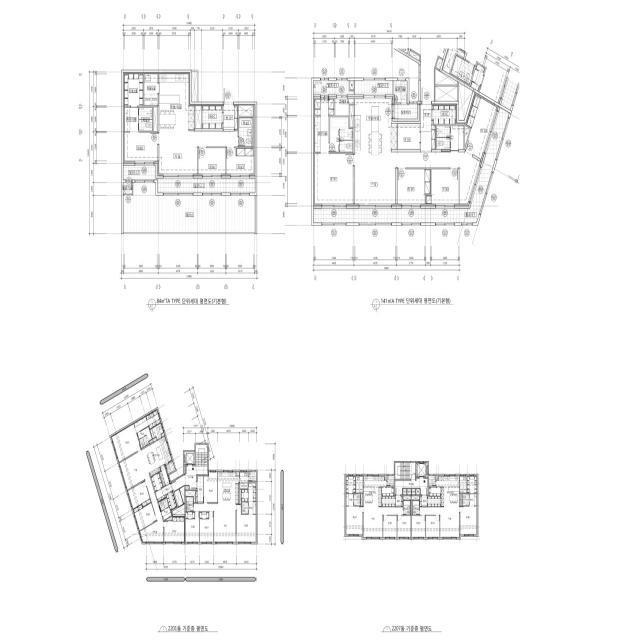space_balconi: (314, 107, 509, 223), (123, 166, 255, 193), (314, 81, 354, 94), (355, 81, 393, 94), (166, 461, 175, 474), (249, 471, 256, 481)
space_bedroom: (465, 92, 498, 160), (314, 154, 353, 206), (426, 169, 459, 206), (398, 169, 430, 206), (111, 423, 141, 462), (123, 132, 157, 163), (226, 148, 255, 176), (198, 148, 225, 176), (237, 504, 256, 543), (127, 481, 151, 509), (133, 503, 156, 531), (398, 124, 420, 149), (164, 517, 185, 543), (460, 506, 477, 535), (346, 506, 363, 535), (200, 512, 213, 543), (204, 471, 217, 502), (186, 512, 199, 543), (397, 516, 411, 538), (426, 516, 440, 538), (383, 516, 397, 538), (412, 516, 425, 538), (200, 512, 209, 518), (186, 512, 194, 518)
space_dressroom: (123, 73, 143, 106), (314, 117, 329, 152), (314, 97, 334, 115), (146, 409, 161, 429), (467, 475, 477, 493), (346, 475, 355, 493), (249, 483, 256, 501), (242, 490, 248, 501)
space_elevator: (416, 463, 428, 477), (184, 452, 195, 465)
space_elevator_hall: (171, 434, 207, 491), (395, 479, 428, 494)
space_front: (419, 104, 435, 152), (433, 104, 457, 124), (223, 104, 238, 129), (155, 483, 172, 501), (151, 473, 163, 491), (166, 491, 177, 510), (196, 476, 203, 503), (428, 496, 441, 506), (382, 497, 395, 506), (396, 496, 403, 506), (420, 496, 427, 506)
space_kitchen: (355, 97, 397, 154), (159, 72, 194, 131), (142, 436, 172, 476), (364, 475, 387, 507), (436, 475, 459, 507), (218, 471, 239, 504), (382, 487, 394, 496), (429, 488, 441, 496)
space_living_room: (355, 152, 481, 206), (119, 450, 163, 543), (158, 131, 238, 176), (194, 504, 236, 543), (420, 507, 460, 538), (363, 507, 403, 538)
space_multipurpose_space: (144, 73, 158, 106), (335, 97, 354, 115)
space_other: (411, 48, 446, 101), (459, 83, 473, 120), (202, 105, 222, 128), (435, 69, 458, 85), (435, 86, 458, 101), (395, 104, 417, 119), (159, 465, 170, 487), (150, 423, 164, 440), (240, 471, 249, 489), (174, 489, 183, 507), (192, 71, 197, 102), (239, 105, 253, 116), (195, 105, 201, 128), (173, 504, 185, 515), (460, 475, 467, 493), (356, 475, 363, 493), (409, 50, 420, 61), (186, 490, 195, 502), (465, 126, 470, 146), (153, 107, 157, 131), (350, 105, 354, 127), (180, 486, 185, 503), (436, 58, 443, 69), (149, 437, 157, 443), (403, 496, 411, 500), (350, 81, 354, 89), (412, 496, 419, 500), (165, 516, 172, 520), (361, 494, 363, 506), (460, 494, 462, 506), (416, 489, 420, 494), (407, 489, 411, 494), (412, 489, 416, 494), (403, 489, 407, 494), (161, 433, 165, 437), (184, 466, 186, 474), (236, 471, 239, 476), (240, 490, 241, 504), (185, 486, 189, 489), (436, 476, 438, 480)
space_outdoor_room: (394, 81, 407, 102), (123, 183, 132, 194), (387, 475, 394, 486), (429, 475, 435, 486)
space_staircase: (395, 463, 415, 479), (201, 444, 207, 466)
space_toilet: (330, 117, 353, 152), (123, 107, 152, 131), (239, 118, 253, 146), (450, 126, 464, 149), (137, 427, 152, 448), (134, 416, 148, 433), (437, 126, 450, 137), (161, 507, 172, 520), (437, 138, 450, 149), (186, 497, 193, 511), (412, 501, 419, 515), (469, 494, 477, 506), (249, 502, 256, 514), (346, 494, 353, 506), (404, 501, 410, 515), (159, 500, 165, 511), (163, 498, 169, 509), (462, 494, 469, 500), (242, 502, 248, 508), (242, 508, 248, 514), (462, 500, 469, 505), (354, 500, 360, 505), (354, 494, 360, 499)
